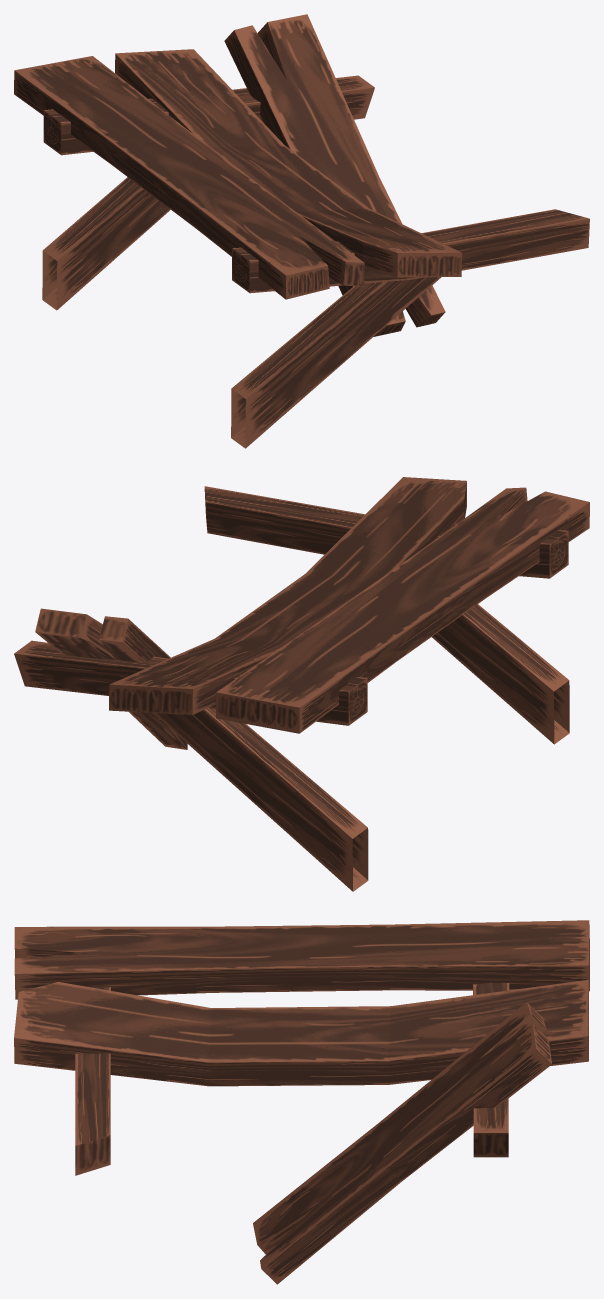
Rendered from Wood_bridge_damaged.fbx.
3 views of the same model, one above another, from view 1: azimuth 30°, elevation 25°; view 2: azimuth 150°, elevation 25°; view 3: azimuth 270°, elevation 25° (orthographic). The views are drawn at different scales.
Parts seen in each view (by area): view 1: Wood_bridge_damaged; view 2: Wood_bridge_damaged; view 3: Wood_bridge_damaged.
Part boxes in pixels (box(x1,y1,x2,y2)): Wood_bridge_damaged: box(14, 14, 589, 448); Wood_bridge_damaged: box(14, 477, 589, 891); Wood_bridge_damaged: box(14, 920, 589, 1284).
Bounding box in the file's own units: 1.46 × 0.9205 × 2.
